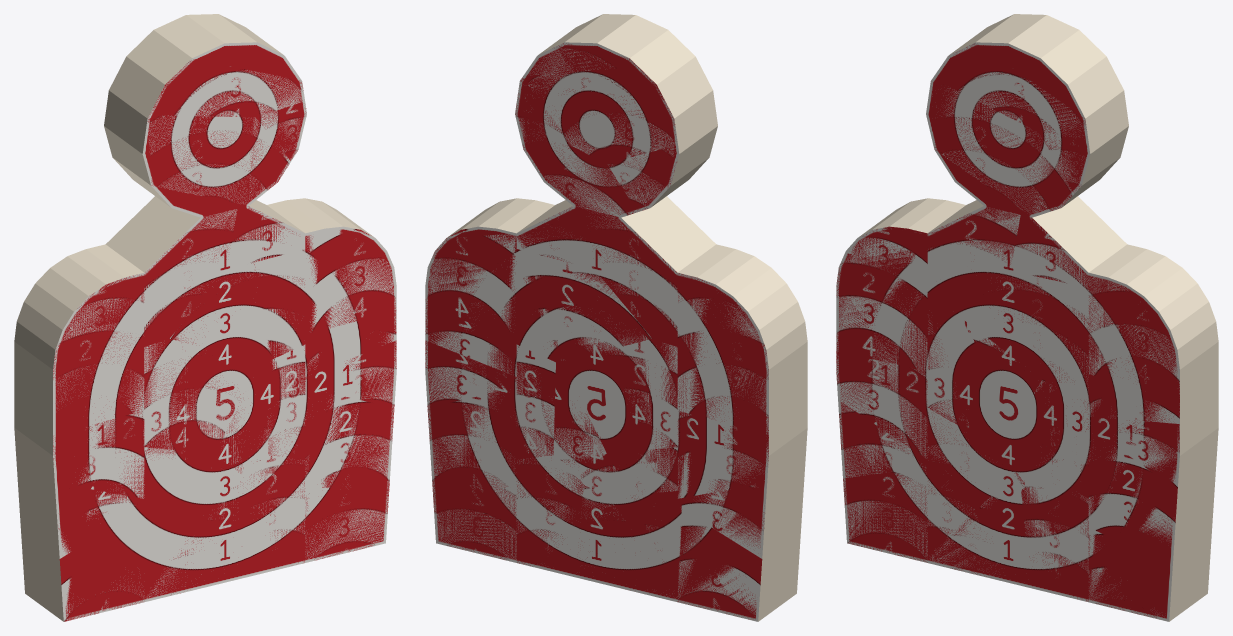
File: cartoon_target_shards.glb
The picture shows the model from 3 angles, left to right: view 1: azimuth 30°, elevation 25°; view 2: azimuth 150°, elevation 25°; view 3: azimuth 330°, elevation 25°; orthographic projection.
Parts seen in each view (by area): view 1: Part_Center, Part_Left, Part_Head, Part_Right, Head_03, Right_03, Left_02, Right_01, Center_04, Center_01, Left_03, Head_01 (+12 smaller); view 2: Part_Center, Part_Left, Part_Head, Part_Right, Right_03, Center_07, Left_00, Left_03, Head_03, Left_01, Right_01, Center_03 (+15 smaller); view 3: Part_Center, Part_Right, Part_Head, Part_Left, Left_03, Right_01, Head_03, Left_02, Right_03, Center_09, Head_01, Left_00 (+13 smaller).
Part boxes in pixels (box(x1,y1,x2,y2)): Part_Center: box(105, 196, 305, 602); Part_Left: box(14, 244, 144, 621); Part_Head: box(104, 14, 306, 217); Part_Right: box(267, 198, 396, 562); Head_03: box(118, 37, 304, 117); Right_03: box(268, 201, 396, 332); Left_02: box(14, 409, 144, 498); Right_01: box(305, 395, 394, 487); Center_04: box(144, 342, 240, 452); Center_01: box(115, 196, 237, 346); Left_03: box(14, 312, 144, 429); Head_01: box(104, 101, 290, 206); Part_Center: box(516, 196, 716, 602); Part_Left: box(677, 244, 807, 621); Part_Head: box(515, 14, 717, 216); Part_Right: box(425, 198, 554, 562); Right_03: box(425, 200, 531, 332); Center_07: box(521, 250, 651, 361); Left_00: box(677, 509, 796, 619); Left_03: box(677, 319, 807, 434); Head_03: box(520, 14, 711, 101); Left_01: box(678, 454, 805, 558); Right_01: box(427, 391, 515, 487); Center_03: box(516, 344, 555, 458); Part_Center: box(927, 196, 1127, 602); Part_Right: box(1088, 244, 1218, 621); Part_Head: box(926, 14, 1128, 217); Part_Left: box(836, 198, 965, 562); Left_03: box(836, 253, 927, 370); Right_01: box(1088, 445, 1216, 564); Head_03: box(944, 25, 1124, 139); Left_02: box(836, 351, 927, 458); Right_03: box(1088, 273, 1218, 394); Center_09: box(1012, 196, 1118, 287); Head_01: box(931, 88, 1074, 217); Left_00: box(843, 467, 927, 562).
Size of the model in its own units: 0.6144 by 0.9216 by 0.12.
Materials: 2 (1 with a texture image).
